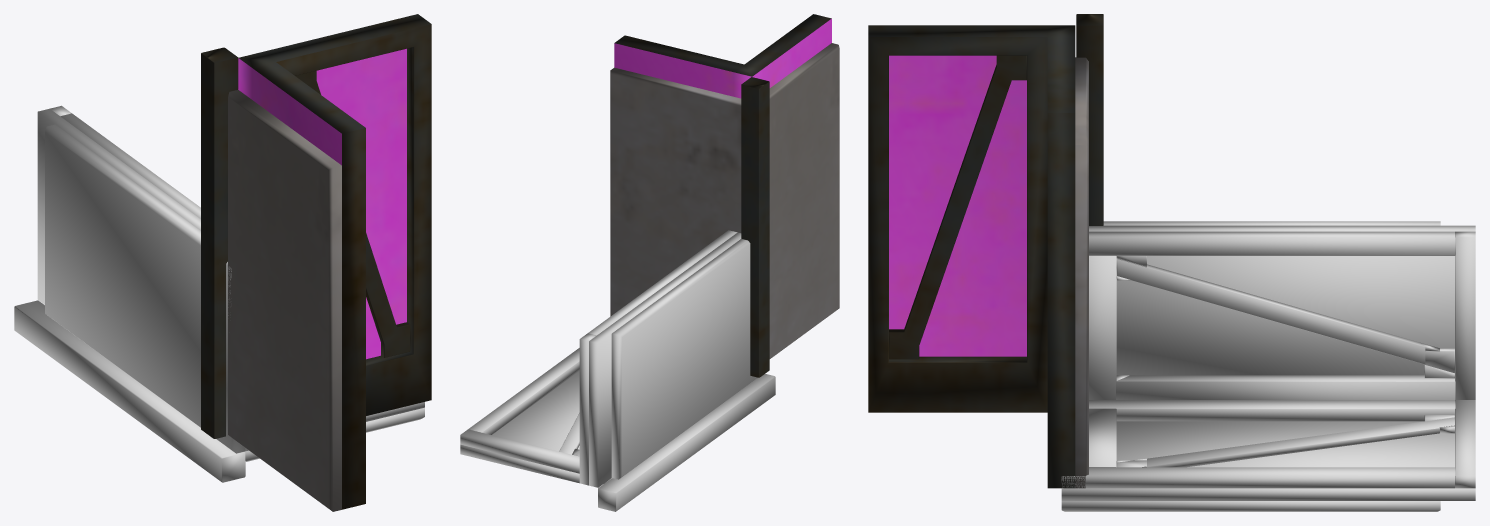
Rendered from SM_Wall_Corner_Small.fbx.
3 renders of one model, left to right at view 1: azimuth 30°, elevation 25°; view 2: azimuth 150°, elevation 25°; view 3: azimuth 270°, elevation 25°, orthographic. The views are drawn at different scales.
Visible parts, largest first — view 1: SM_Wall_Corner_Small, SM_Wall_Corner_Small_ConvexHulls; view 2: SM_Wall_Corner_Small, SM_Wall_Corner_Small_ConvexHulls; view 3: SM_Wall_Corner_Small_ConvexHulls, SM_Wall_Corner_Small.
Part boxes in pixels (x1,y1,x2,y2): SM_Wall_Corner_Small: [201, 14, 431, 511]; SM_Wall_Corner_Small_ConvexHulls: [14, 105, 424, 482]; SM_Wall_Corner_Small: [610, 14, 839, 377]; SM_Wall_Corner_Small_ConvexHulls: [460, 230, 775, 511]; SM_Wall_Corner_Small_ConvexHulls: [1061, 221, 1475, 511]; SM_Wall_Corner_Small: [868, 14, 1103, 488].
Bounding box in the file's own units: 1.7 × 3.31 × 4.4.
